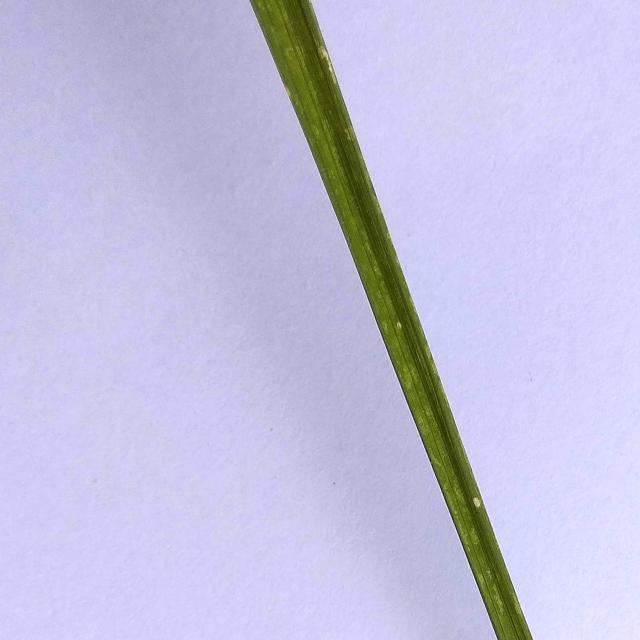Blast: (392, 315, 412, 332), (470, 496, 482, 510)
